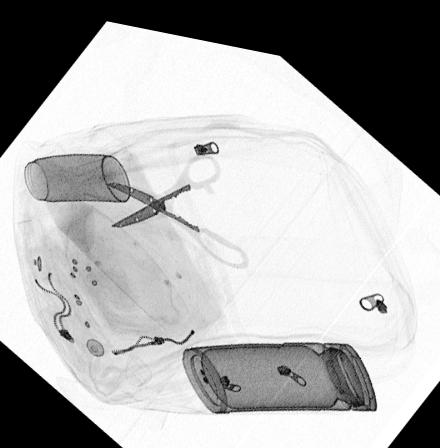Scissors: (106, 141, 250, 260)
